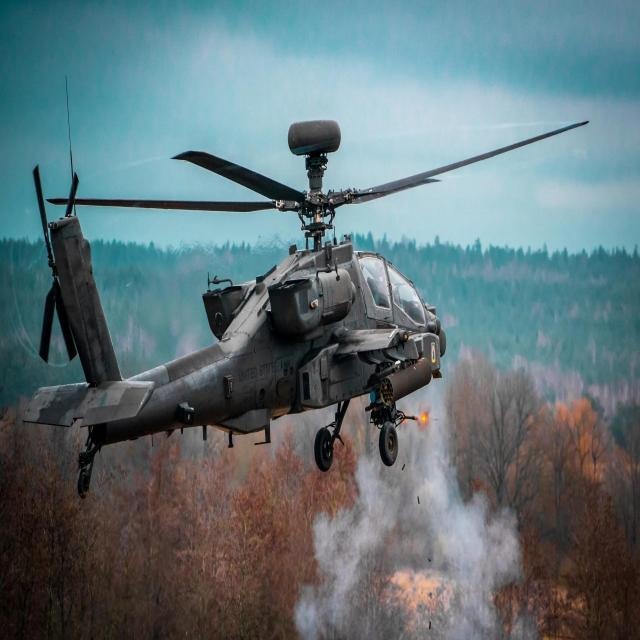MIL_HELO: (12, 111, 600, 500)
